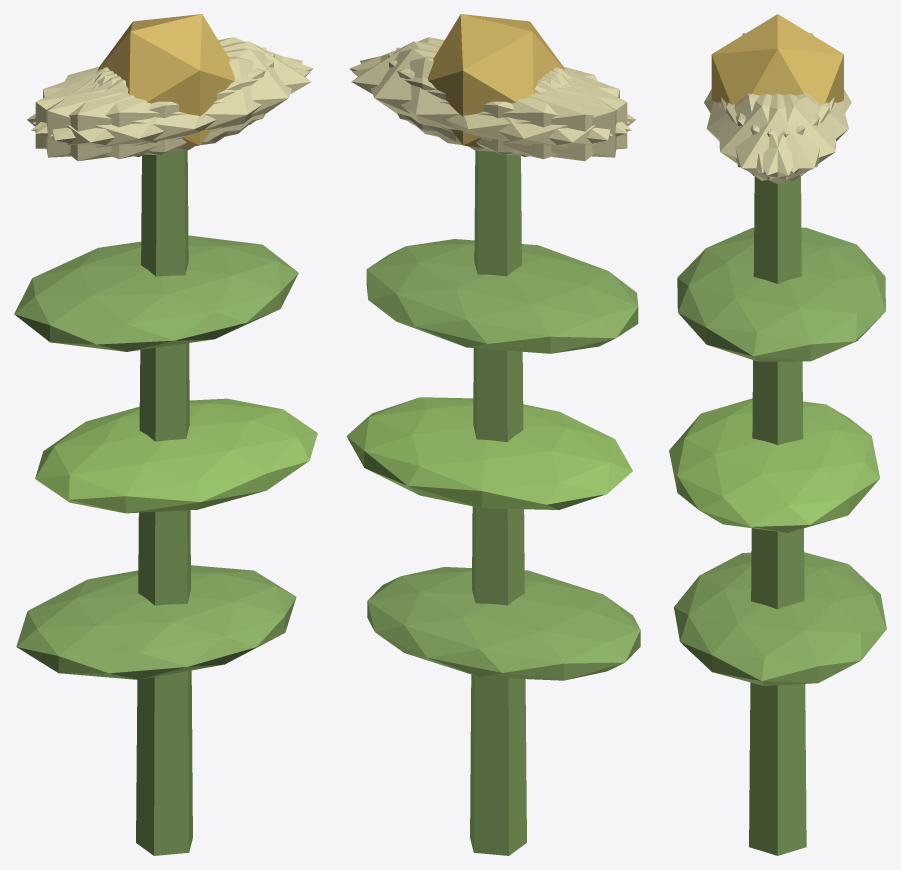
The model's file is ficus-benghalensis.glb.
3 renders of one model, left to right at view 1: azimuth 30°, elevation 25°; view 2: azimuth 150°, elevation 25°; view 3: azimuth 270°, elevation 25°, orthographic.
Visible parts, largest first — view 1: stem, leaf2, leaf1, leaf0, center, petal1, petal6, petal2, petal5, petal7, petal0, petal4 (+2 smaller); view 2: stem, leaf2, leaf0, leaf1, center, petal8, petal3, petal7, petal4, petal2, petal0, petal5 (+2 smaller); view 3: stem, leaf1, leaf2, leaf0, center, petal0, petal5, petal4, petal1, petal8.
Part boxes in pixels (<box>): stem: <box>136,150,192,855</box>; leaf2: <box>14,235,298,351</box>; leaf1: <box>35,398,317,513</box>; leaf0: <box>16,565,296,679</box>; center: <box>97,14,235,147</box>; petal1: <box>31,56,310,159</box>; petal6: <box>27,69,229,161</box>; petal2: <box>46,47,266,157</box>; petal5: <box>50,48,302,152</box>; petal7: <box>35,53,274,155</box>; petal0: <box>97,41,311,142</box>; petal4: <box>32,37,313,133</box>; stem: <box>470,150,526,855</box>; leaf2: <box>366,239,638,353</box>; leaf0: <box>367,567,640,680</box>; leaf1: <box>346,397,632,509</box>; center: <box>427,14,565,147</box>; petal8: <box>352,56,631,159</box>; petal3: <box>433,69,635,161</box>; petal7: <box>396,47,616,157</box>; petal4: <box>360,48,612,152</box>; petal2: <box>388,53,627,155</box>; petal0: <box>351,41,565,142</box>; petal5: <box>349,37,630,133</box>; stem: <box>749,176,806,855</box>; leaf1: <box>669,398,879,532</box>; leaf2: <box>677,227,885,361</box>; leaf0: <box>674,552,886,686</box>; center: <box>711,14,843,104</box>; petal0: <box>721,94,834,183</box>; petal5: <box>719,94,829,180</box>; petal4: <box>726,94,836,180</box>; petal1: <box>706,93,819,172</box>; petal8: <box>736,93,848,172</box>.
Size of the model in its own units: 0.1485 by 0.414 by 0.1007.
